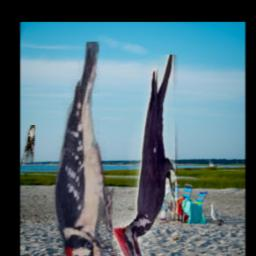Cuckoo: (21, 126, 35, 165)
Woodpecker: (52, 43, 118, 256), (113, 55, 178, 256)
